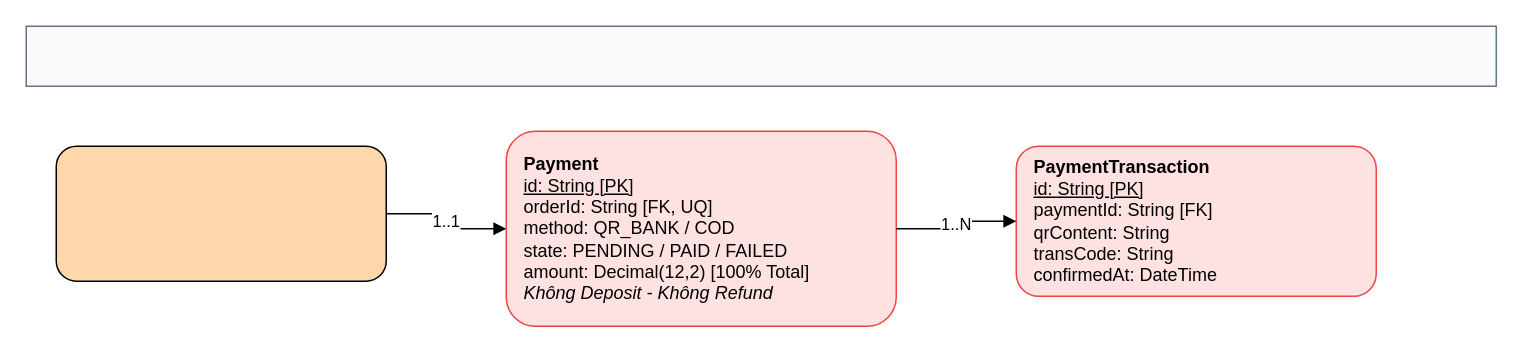
Some shapes in this 1523 by 353 pixel diagram are drawn without their labels. Here are the shapes that lost their labels. From the top down, the box of each, then its label:
(25, 25, 1496, 86): ERD CHI TIẾT: THANH TOÁN QR VÀ COD TOÀN PHẦN (KHÔNG CỌC - KHÔNG HOÀN TIỀN SITE)
(55, 145, 386, 281): Order id: String [PK] orderStatus: OrderStatus totalAmount: Decimal(12,2)
